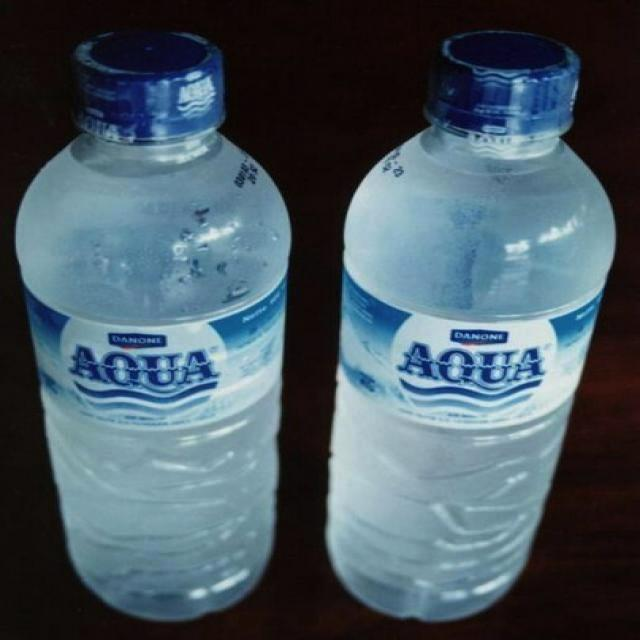bottle: (323, 30, 615, 623), (14, 33, 293, 622)
